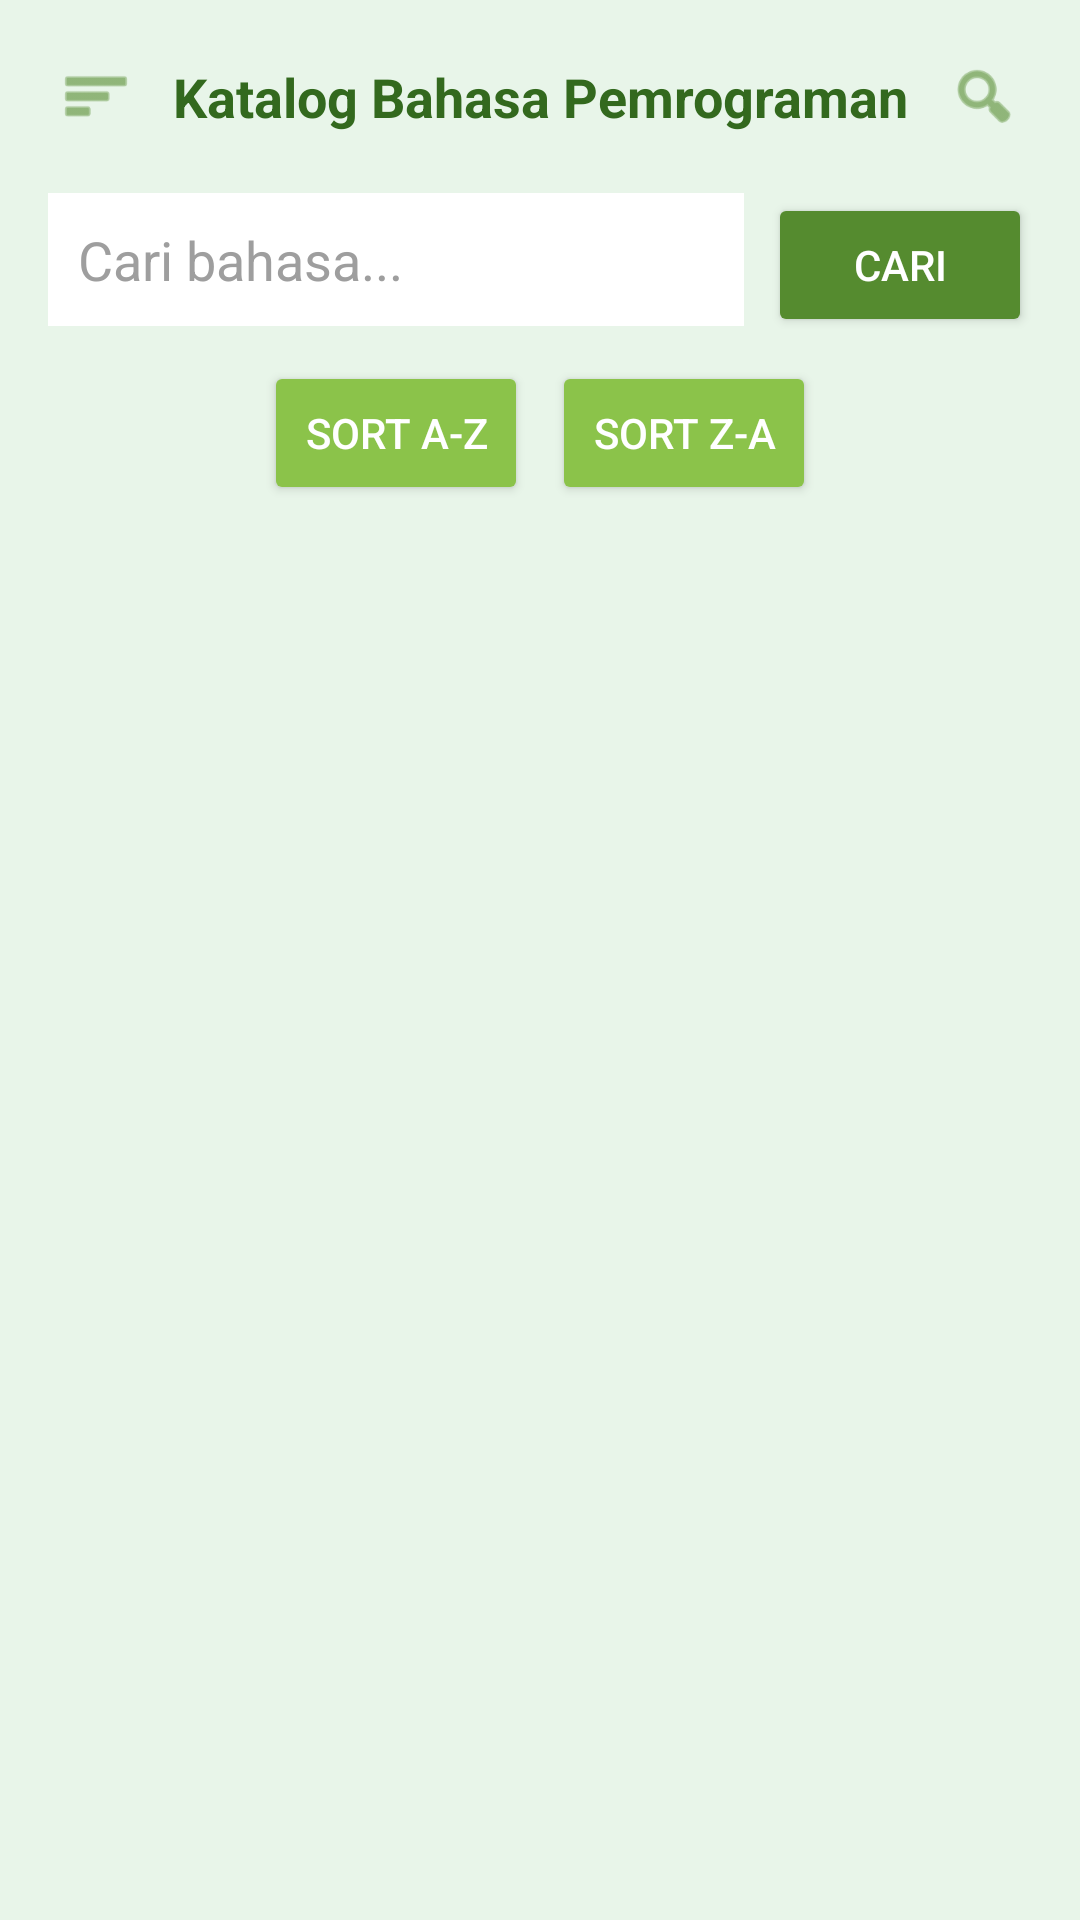

Where icons sit on this 1080px×1920px app screen, as (x1, y1, x2, y2):
search: (957, 70, 1011, 123)
sort by size: (65, 76, 127, 117)
